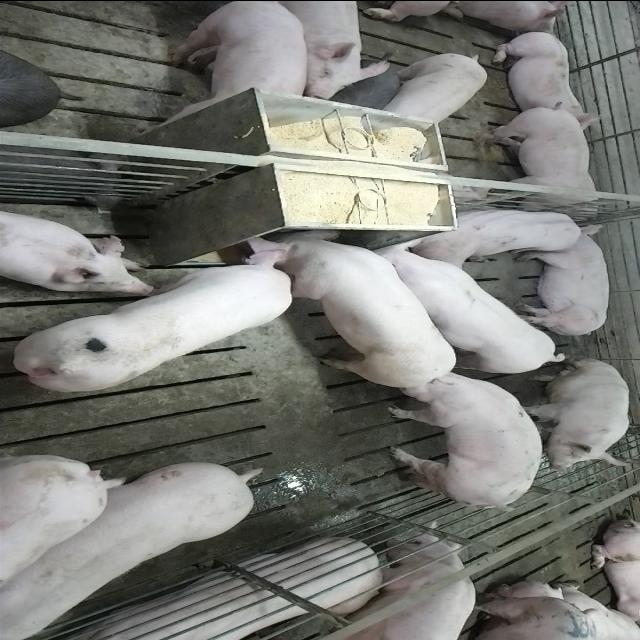Feeding: (14, 244, 298, 394), (256, 220, 466, 384)
Lateral_lying: (40, 539, 388, 640), (512, 223, 612, 337)
Sitting: (514, 356, 633, 472)
Standing: (5, 456, 266, 635), (358, 242, 568, 376), (2, 451, 138, 637), (380, 368, 544, 512), (146, 2, 308, 132), (469, 103, 611, 219), (334, 532, 474, 640), (245, 3, 392, 104), (382, 50, 488, 124)
Sternal_lying: (0, 207, 155, 293), (486, 28, 606, 124), (410, 204, 586, 264)
